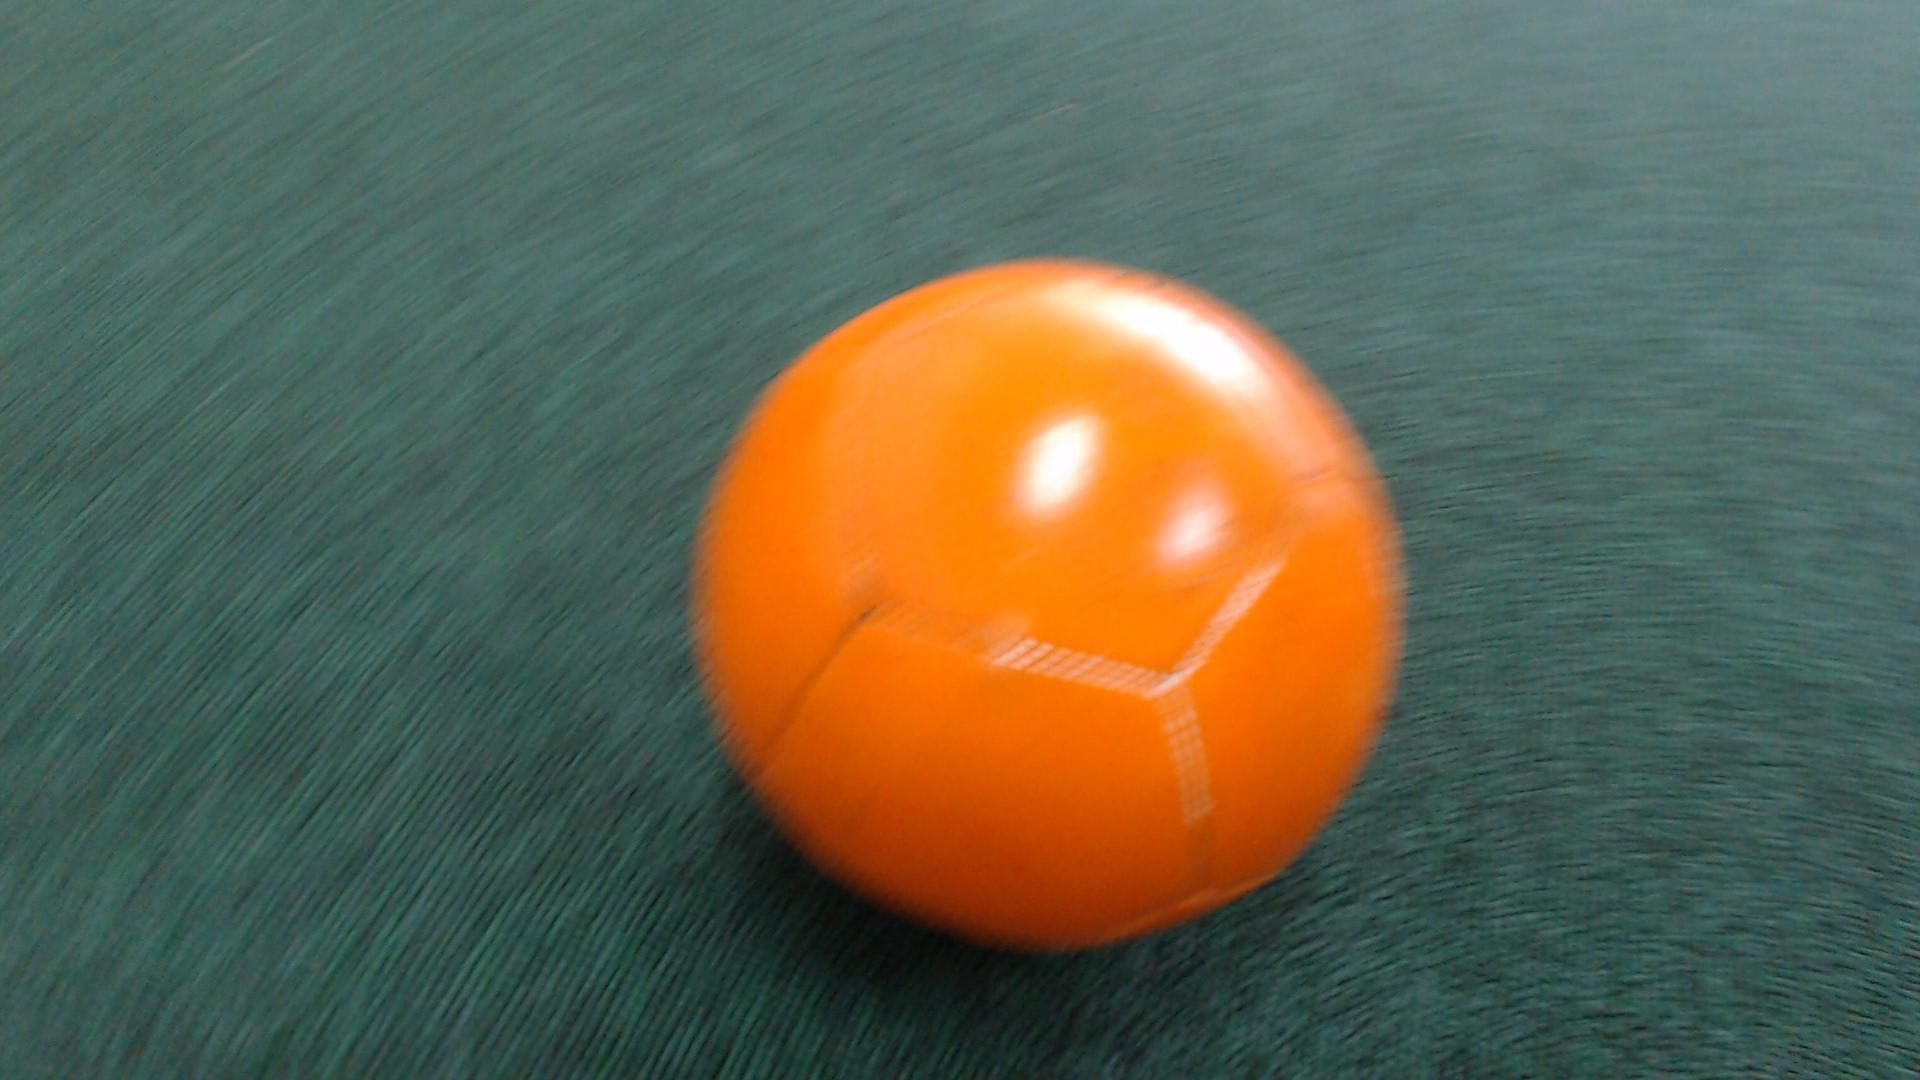bola: (680, 215, 1427, 971)
